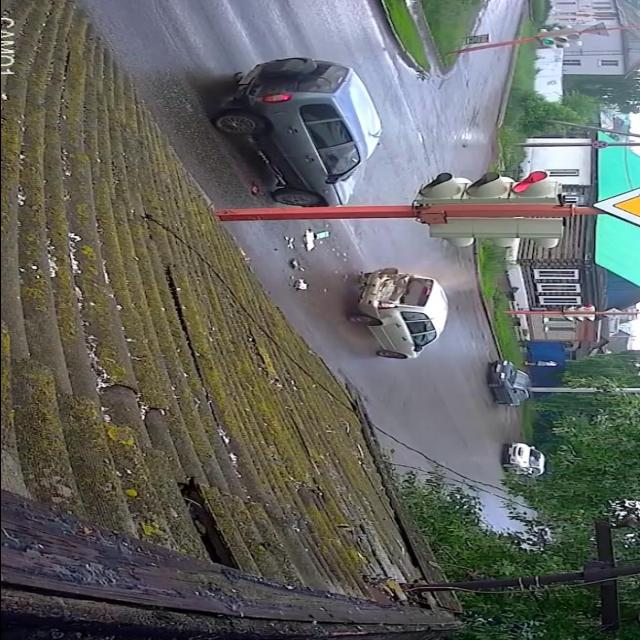accident: (327, 254, 459, 363)
